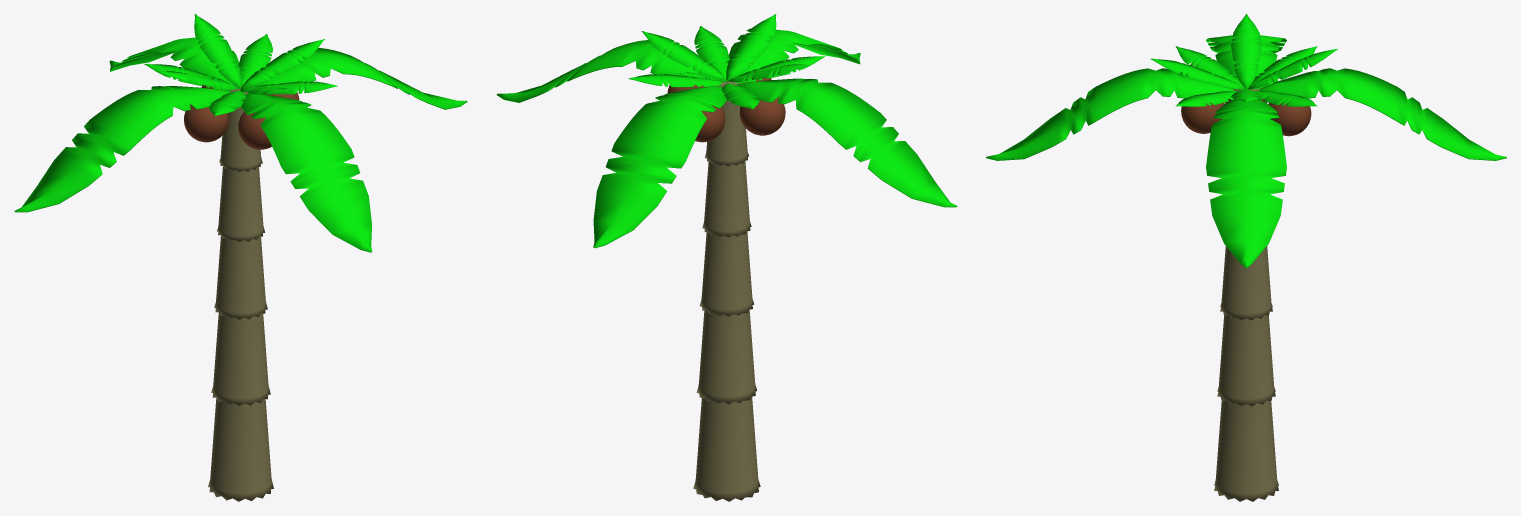
Rendered from CoconutTree.fbx.
The picture shows the model from 3 angles, left to right: view 1: azimuth 30°, elevation 25°; view 2: azimuth 150°, elevation 25°; view 3: azimuth 270°, elevation 25°; orthographic projection.
Parts seen in each view (by area): view 1: Coconut_Tree, Leaf.011, Leaf.001, Leaf, Leaf.002, Leaf.010, Coconut.002, Leaf.009, Leaf.006, Coconut.001, Leaf.005, Leaf.004 (+2 smaller); view 2: Coconut_Tree, Leaf.002, Leaf.001, Leaf, Leaf.011, Leaf.008, Coconut.002, Leaf.009, Leaf.005, Leaf.006, Coconut.003, Leaf.003 (+2 smaller); view 3: Coconut_Tree, Leaf, Leaf.002, Leaf.011, Leaf.007, Leaf.001, Coconut.003, Leaf.008, Coconut.001, Leaf.010, Leaf.004, Leaf.005 (+2 smaller).
Part boxes in pixels (x1,y1,x2,y2): Coconut_Tree: (208, 84, 273, 501); Leaf.011: (241, 93, 372, 252); Leaf.001: (14, 86, 230, 212); Leaf: (251, 48, 467, 109); Leaf.002: (109, 37, 240, 84); Leaf.010: (194, 14, 241, 87); Coconut.002: (184, 104, 228, 142); Leaf.009: (241, 39, 324, 87); Leaf.006: (238, 34, 272, 86); Coconut.001: (238, 112, 271, 149); Leaf.005: (248, 81, 337, 94); Leaf.004: (209, 90, 245, 115); Coconut_Tree: (693, 80, 760, 501); Leaf.002: (593, 86, 726, 248); Leaf.001: (737, 78, 957, 207); Leaf: (496, 40, 698, 102); Leaf.011: (727, 28, 860, 77); Leaf.008: (726, 14, 776, 80); Coconut.002: (739, 97, 785, 135); Leaf.009: (641, 31, 726, 80); Leaf.005: (694, 26, 729, 78); Leaf.006: (628, 74, 722, 87); Coconut.003: (695, 106, 725, 142); Leaf.003: (722, 83, 759, 109); Coconut_Tree: (1214, 87, 1278, 501); Leaf: (1206, 99, 1286, 267); Leaf.002: (1258, 68, 1506, 160); Leaf.011: (986, 68, 1234, 160); Leaf.007: (1231, 14, 1261, 88); Leaf.001: (1206, 35, 1286, 76); Coconut.003: (1268, 102, 1311, 136); Leaf.008: (1151, 58, 1245, 89); Coconut.001: (1181, 102, 1224, 133); Leaf.010: (1248, 49, 1337, 89); Leaf.004: (1175, 46, 1243, 87); Leaf.005: (1176, 91, 1237, 106).
Bounding box in the file's own units: 592 × 551 × 592.
